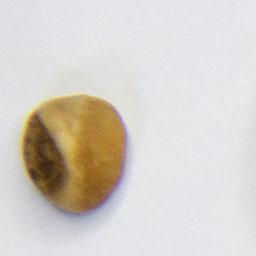defect: (17, 91, 131, 217)
